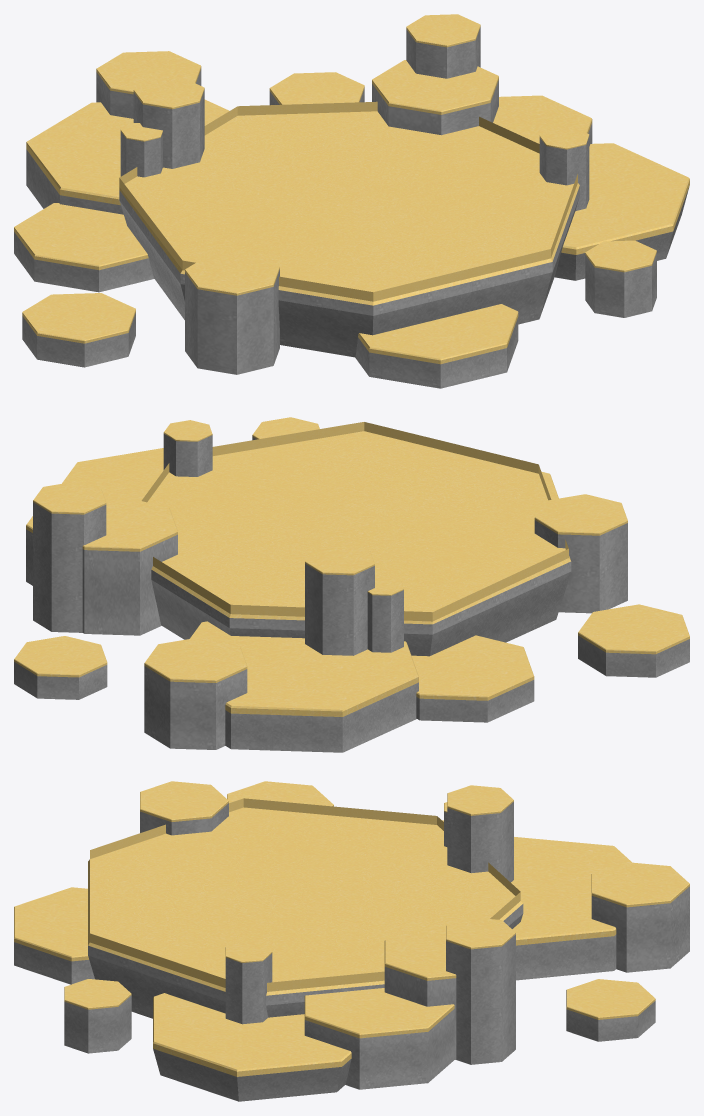
Rendered from map_autumn.fbx.
3 renders of one model, top to bottom at view 1: azimuth 30°, elevation 25°; view 2: azimuth 150°, elevation 25°; view 3: azimuth 270°, elevation 25°, orthographic. The views are drawn at different scales.
Visible parts, largest first — view 1: GROUND BROUN.002, GROUND BROUN.001, fence; view 2: GROUND BROUN.002, GROUND BROUN.001, fence; view 3: GROUND BROUN.002, GROUND BROUN.001, fence.
Boxes of the visible parts, <box> form: GROUND BROUN.002: <box>14,14,689,388</box>; GROUND BROUN.001: <box>119,111,579,357</box>; fence: <box>119,101,577,301</box>; GROUND BROUN.002: <box>14,417,689,752</box>; GROUND BROUN.001: <box>147,431,571,656</box>; fence: <box>141,422,568,621</box>; GROUND BROUN.002: <box>14,781,689,1101</box>; GROUND BROUN.001: <box>88,807,523,1018</box>; fence: <box>90,798,520,991</box>.
Size of the model in its own units: 104 by 19.9 by 99.71.
